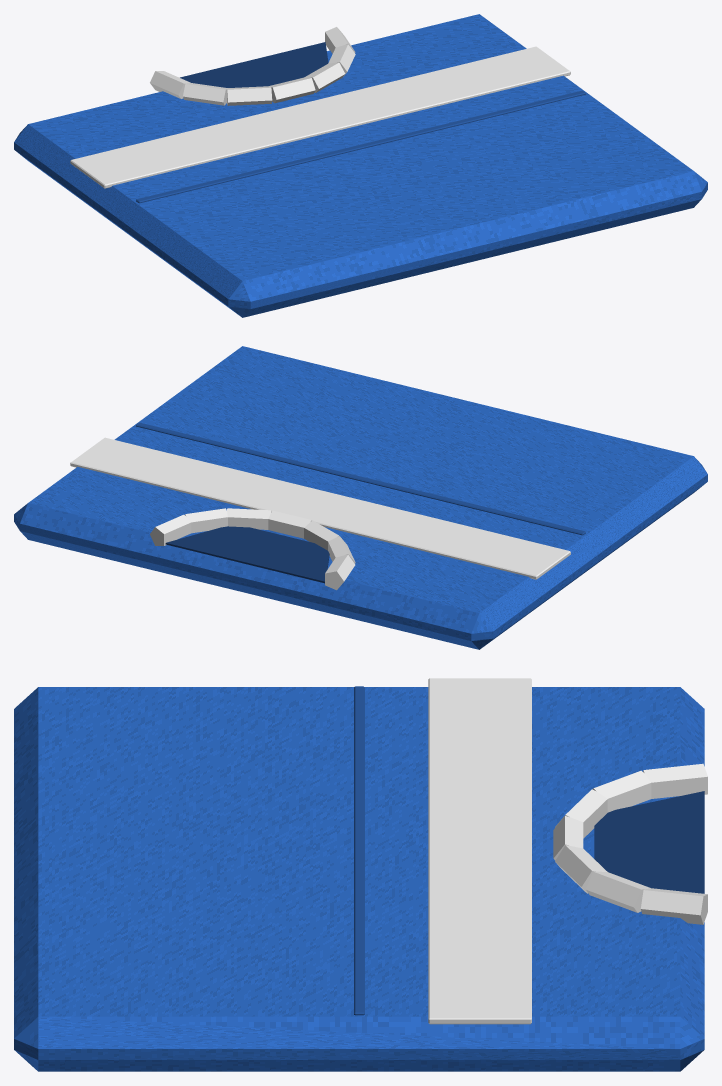
Rendered from jersey.glb.
3 views of the same model, one above another, from view 1: azimuth 30°, elevation 25°; view 2: azimuth 150°, elevation 25°; view 3: azimuth 270°, elevation 25° (orthographic). The views are drawn at different scales.
Visible parts, largest first — view 1: block_body, block_stripe, block_neckhole, block_fold, block_neck4, block_neck3, block_neck5, block_neck6, block_neck2; view 2: block_body, block_stripe, block_neckhole, block_fold, block_neck0, block_neck2, block_neck3, block_neck1, block_neck6, block_neck4; view 3: block_body, block_stripe, block_neckhole, block_fold, block_neck0, block_neck6, block_neck1, block_neck5, block_neck2, block_neck4, block_neck3.
Boxes of the visible parts, x1,y1,x2,y2 form: block_body: (14,14,707,317); block_stripe: (70,46,570,188); block_neckhole: (180,42,328,87); block_fold: (136,90,585,203); block_neck4: (227,86,272,105); block_neck3: (269,77,315,103); block_neck5: (183,83,227,105); block_neck6: (150,71,190,98); block_neck2: (304,62,345,92); block_body: (14,346,707,649); block_stripe: (70,437,570,579); block_neckhole: (165,526,329,583); block_fold: (136,422,585,535); block_neck0: (150,514,191,545); block_neck2: (227,508,271,529); block_neck3: (268,510,311,538); block_neck1: (185,508,227,533); block_neck6: (325,554,355,590); block_neck4: (304,520,339,550); block_body: (14,687,704,1071); block_stripe: (428,678,531,1024); block_neckhole: (594,791,704,893); block_fold: (354,686,364,1015); block_neck0: (640,888,707,924); block_neck6: (643,763,707,798); block_neck1: (586,871,650,912); block_neck5: (592,770,651,812); block_neck2: (555,845,607,893); block_neck4: (555,789,607,838); block_neck3: (553,816,583,860).
Size of the model in its own units: 0.3 by 0.0307 by 0.2512.
1 material, 1 textured.
